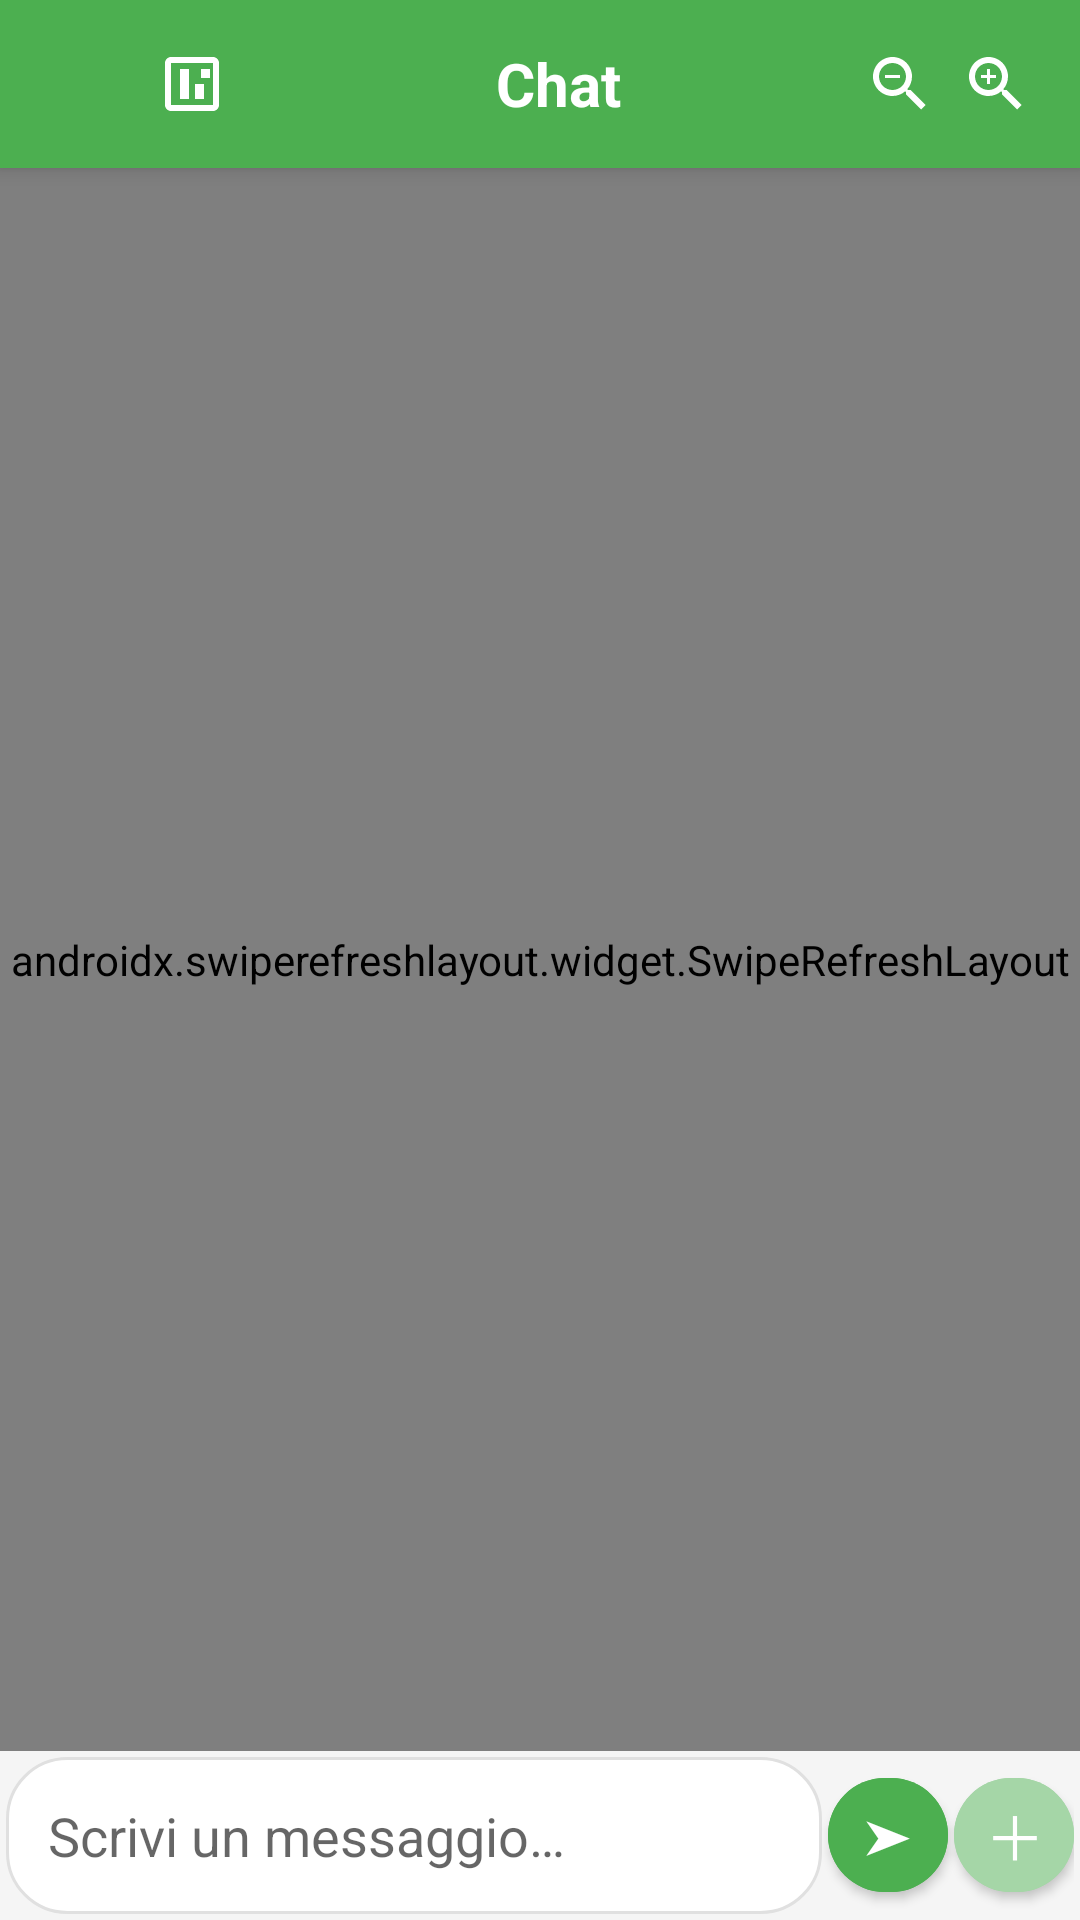

Where to tap for icons on this 1080x1920 app screen, as [x,y]:
Zoom +: [995,83]
Zoom -: [899,83]
